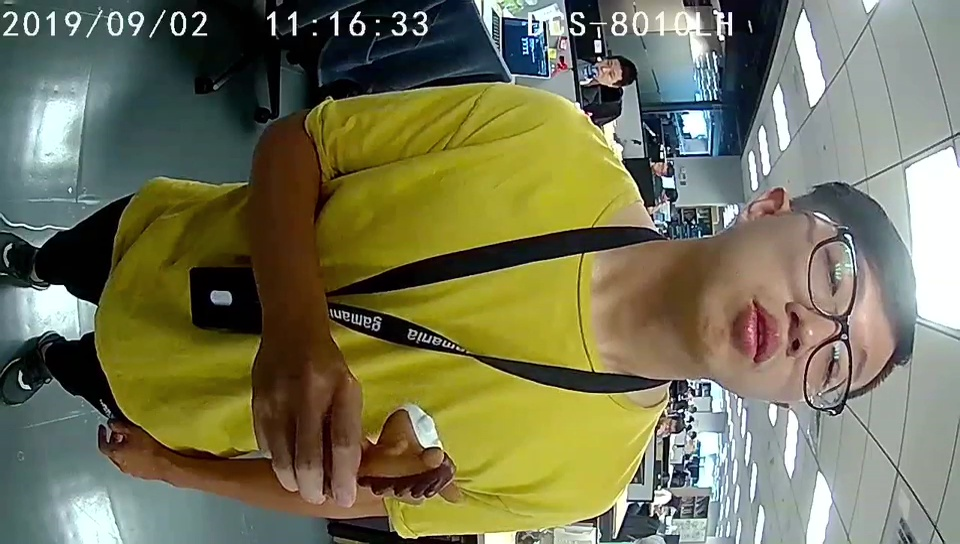horse: (363, 402, 464, 505)
